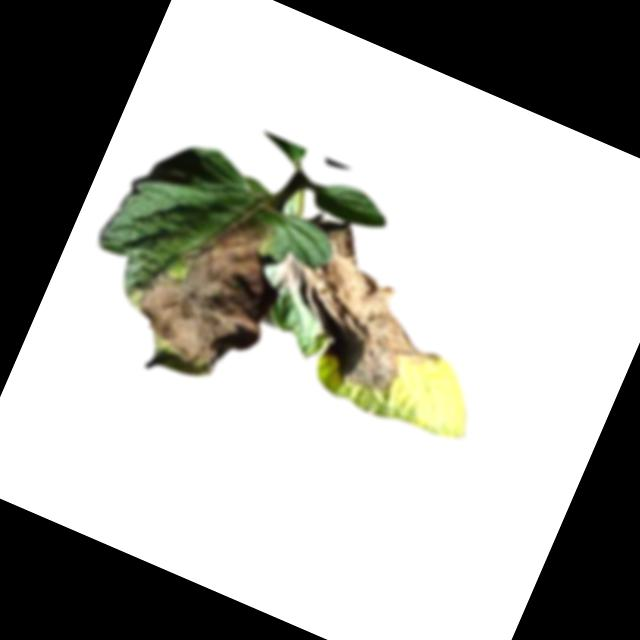Late_blight: (244, 204, 478, 417), (111, 185, 304, 406)
healthy: (308, 173, 394, 235)
